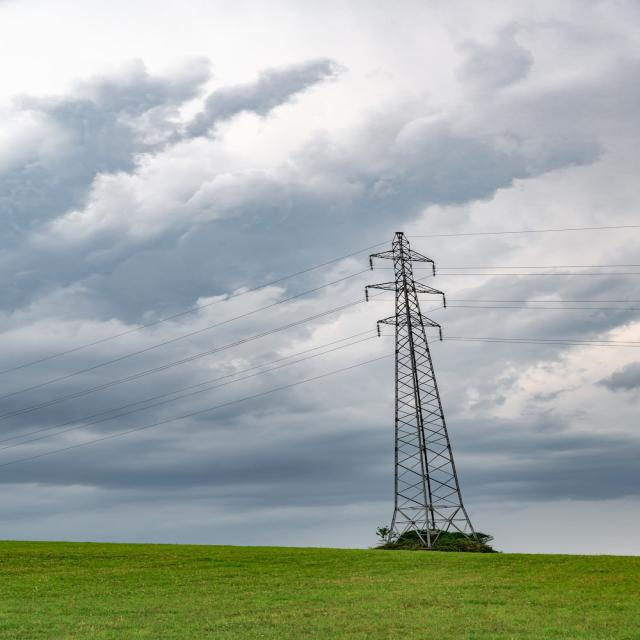transmission tower: (324, 215, 520, 534)
